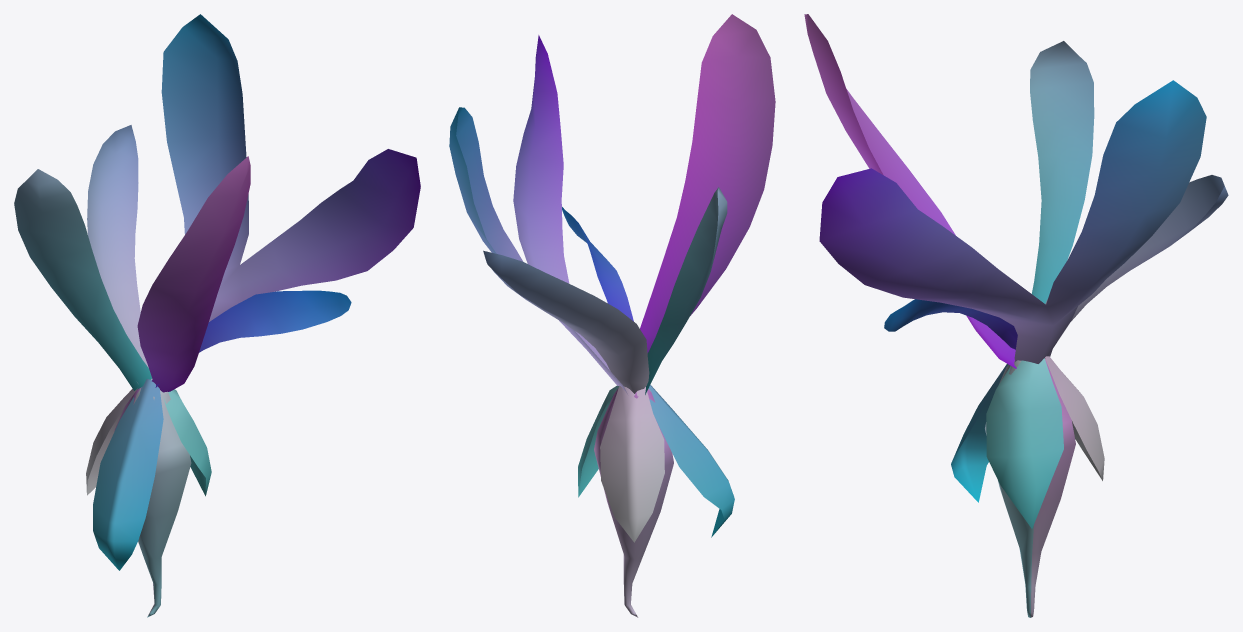
3 renders of one model, left to right at view 1: azimuth 30°, elevation 25°; view 2: azimuth 150°, elevation 25°; view 3: azimuth 270°, elevation 25°, orthographic. The views are drawn at different scales.
Visible parts, largest first — view 1: SM_MapleTree_01_quarter_02_LOD0; view 2: SM_MapleTree_01_quarter_02_LOD0; view 3: SM_MapleTree_01_quarter_02_LOD0.
Part boxes in pixels (x1,y1,x2,y2): SM_MapleTree_01_quarter_02_LOD0: (14,14,420,617); SM_MapleTree_01_quarter_02_LOD0: (449,14,775,617); SM_MapleTree_01_quarter_02_LOD0: (804,14,1228,617).
Bounding box in the file's own units: 0.2377 × 0.4177 × 0.2654.
